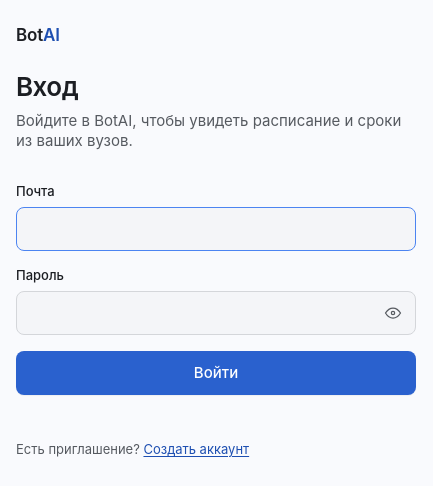
it: вход и регистрация › неверный пароль: ошибка у поля пароля, без технических слов и без кнопки повтора
Type "student@example.test" into the field labelled "Почта" at (216, 229), box [29,208,403,250]
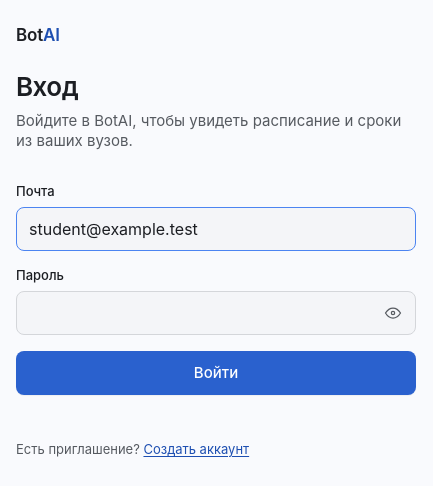
Type "не-тот-пароль" into the password field labelled "Пароль" at (198, 313), box [29,292,367,334]
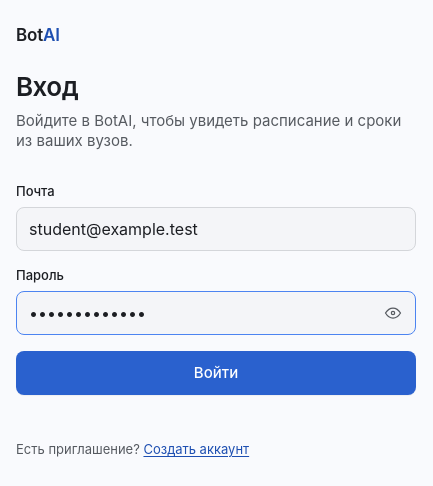
Click the button "Войти" at (216, 373), box [16,351,416,395]
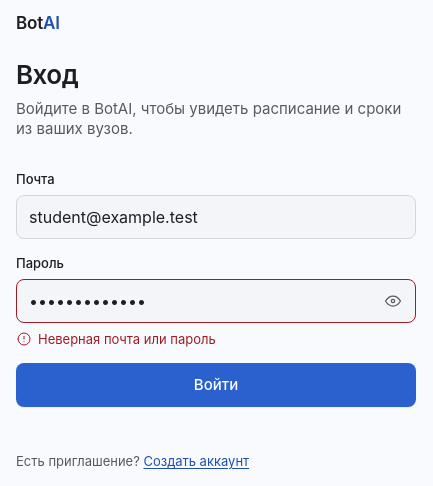
Result: the text "Неверная почта или пароль" is shown at [38,331,216,347]
